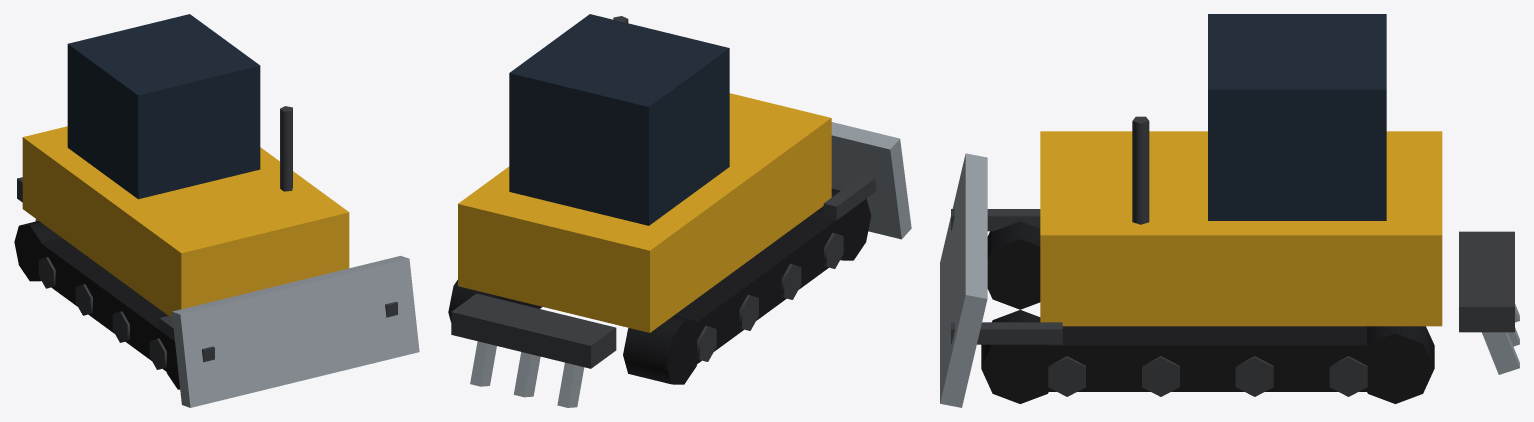
File: veh_ground_bulldozer_a07.glb
3 views of the same model, side by side, from view 1: azimuth 30°, elevation 25°; view 2: azimuth 150°, elevation 25°; view 3: azimuth 270°, elevation 25° (orthographic). The views are drawn at different scales.
Parts seen in each view (by area): view 1: body, blade, track_r; view 2: body, track_r, ripper, blade, track_l; view 3: body, track_l, blade, ripper, track_r.
Part boxes in pixels (x1,y1,x2,y2): body: (22,14,349,315); blade: (159,256,419,407); track_r: (14,221,180,389); body: (458,14,831,332); track_r: (623,188,871,384); ripper: (451,293,616,407); blade: (823,122,911,239); track_l: (448,280,542,322); body: (1040,14,1442,326); track_l: (981,310,1434,403); blade: (940,153,1062,407); ripper: (1459,231,1519,374); track_r: (987,221,1040,309).
Size of what is drawn, in the model's own units: 3 by 2.93 by 5.19.
